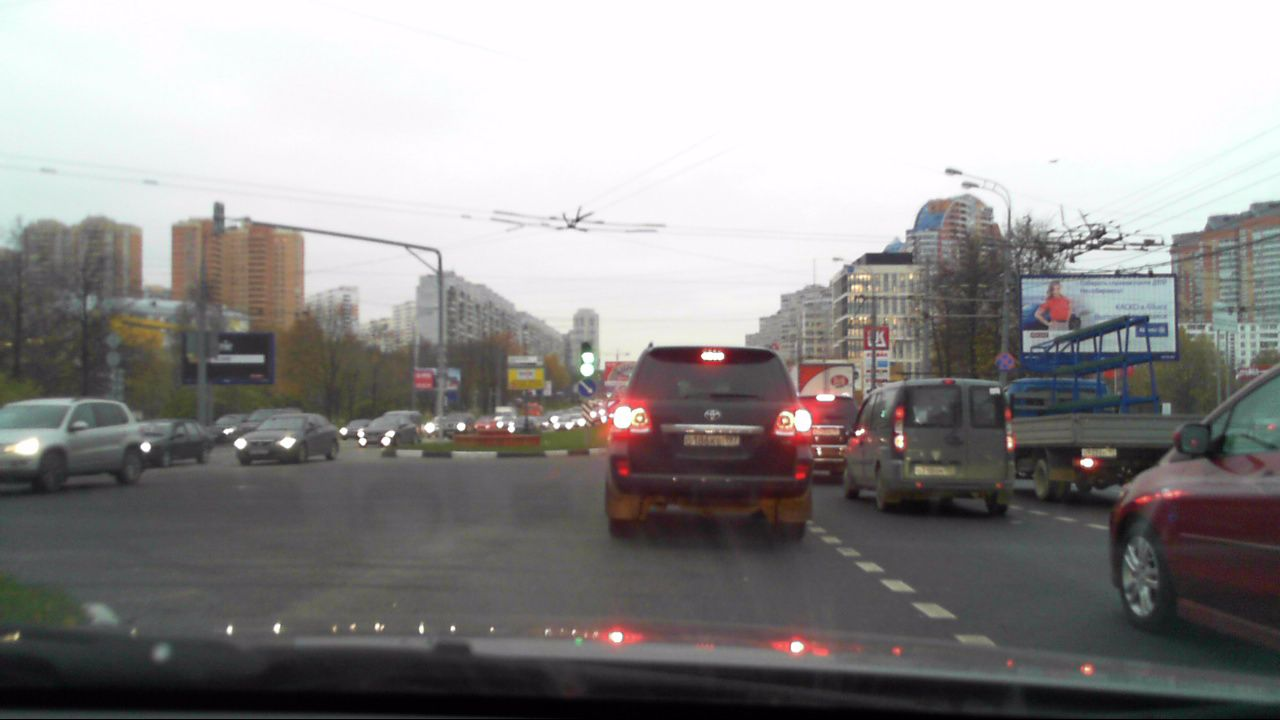No Parking: (994, 351, 1014, 370)
